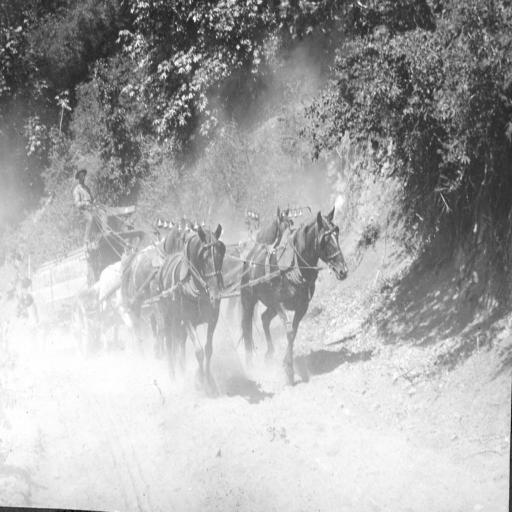Horse: (152, 225, 224, 395), (122, 223, 196, 386), (222, 204, 292, 372)
